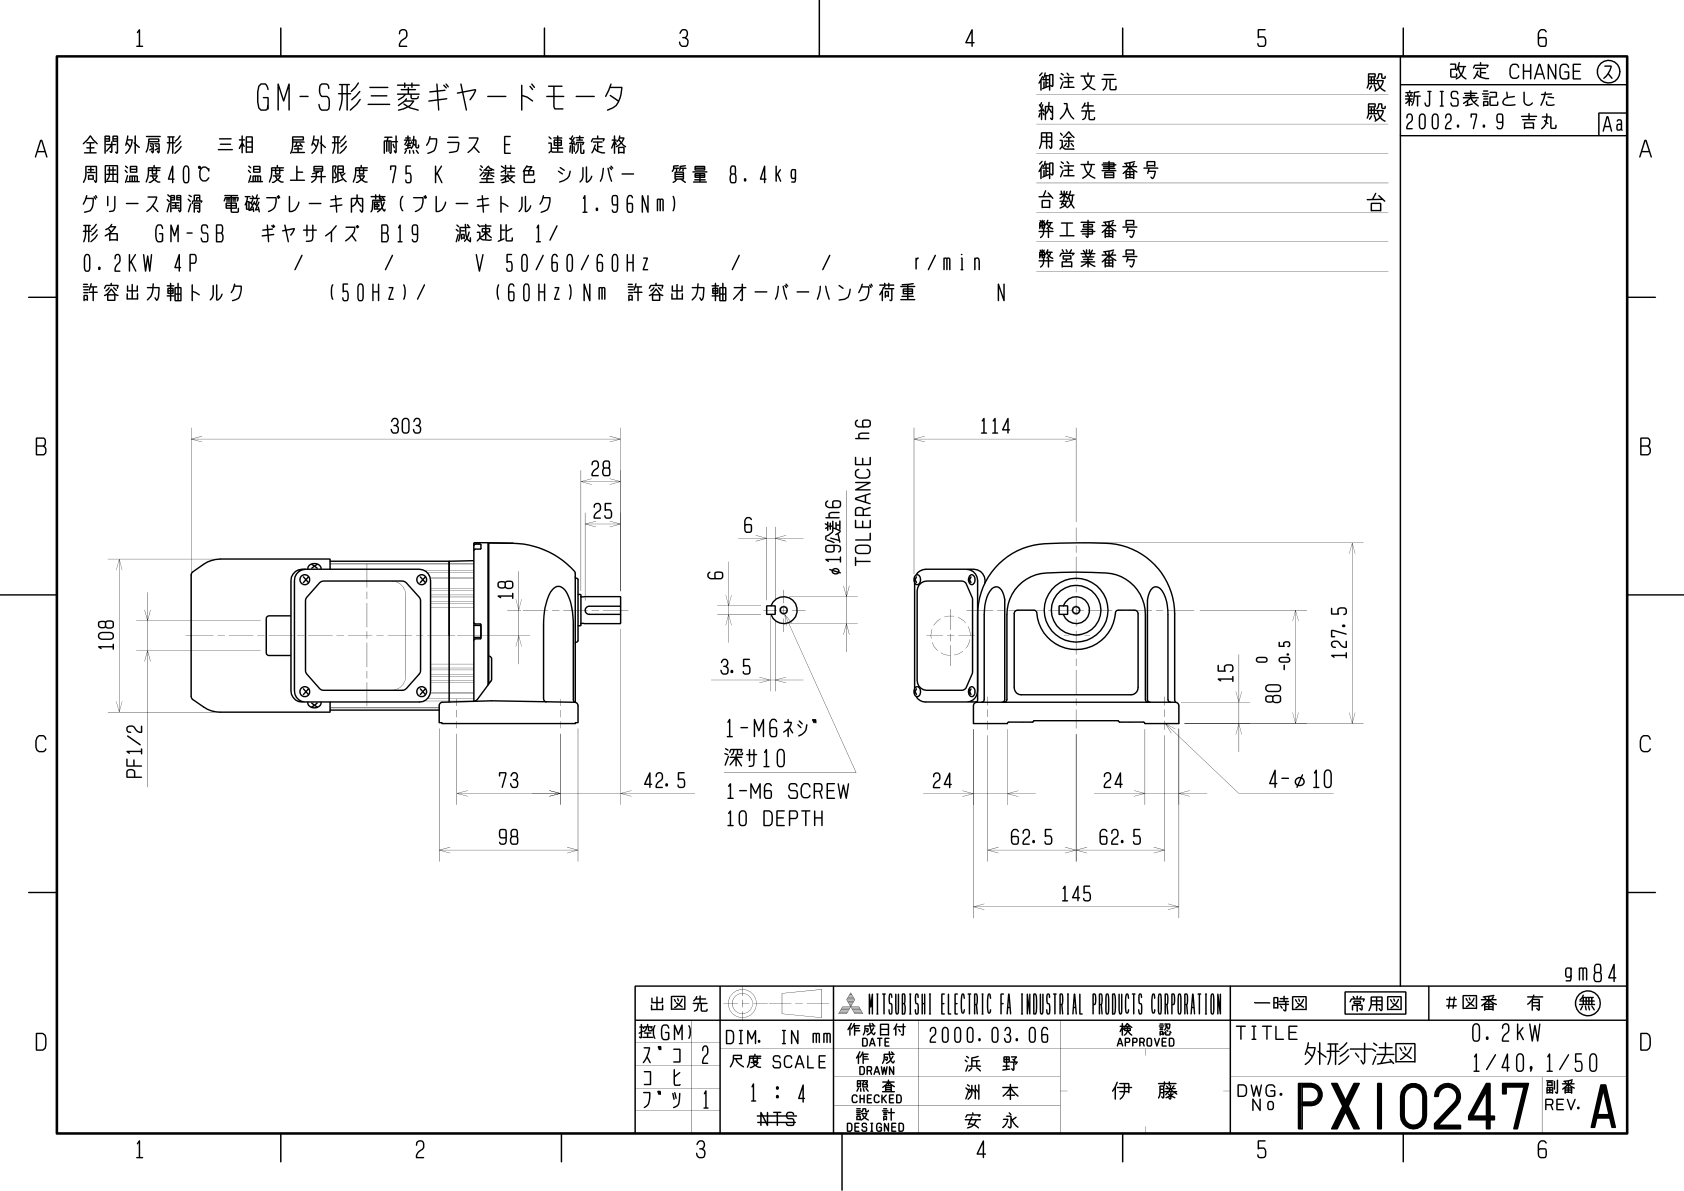GM_S_屋外＿三相_脚: (10, 9, 1684, 1191)
